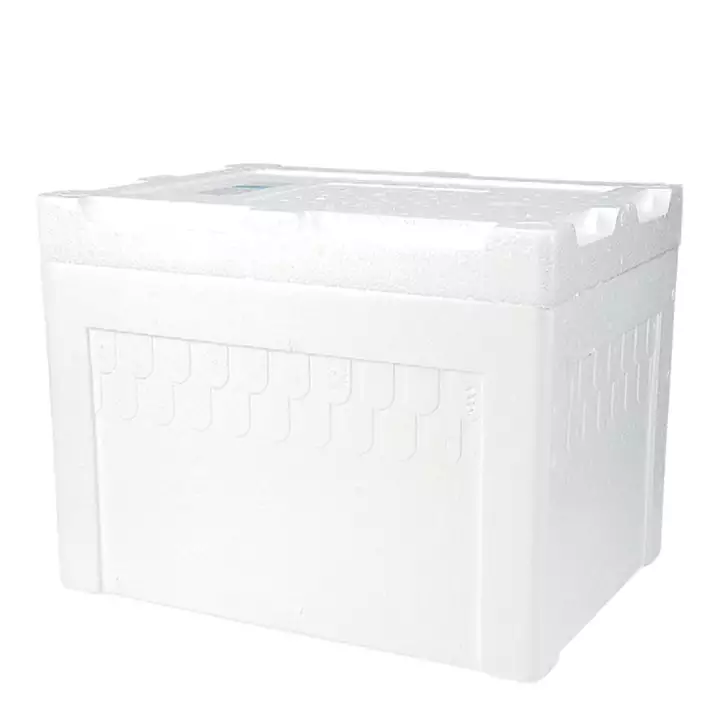Foam Box: (28, 154, 689, 688)
